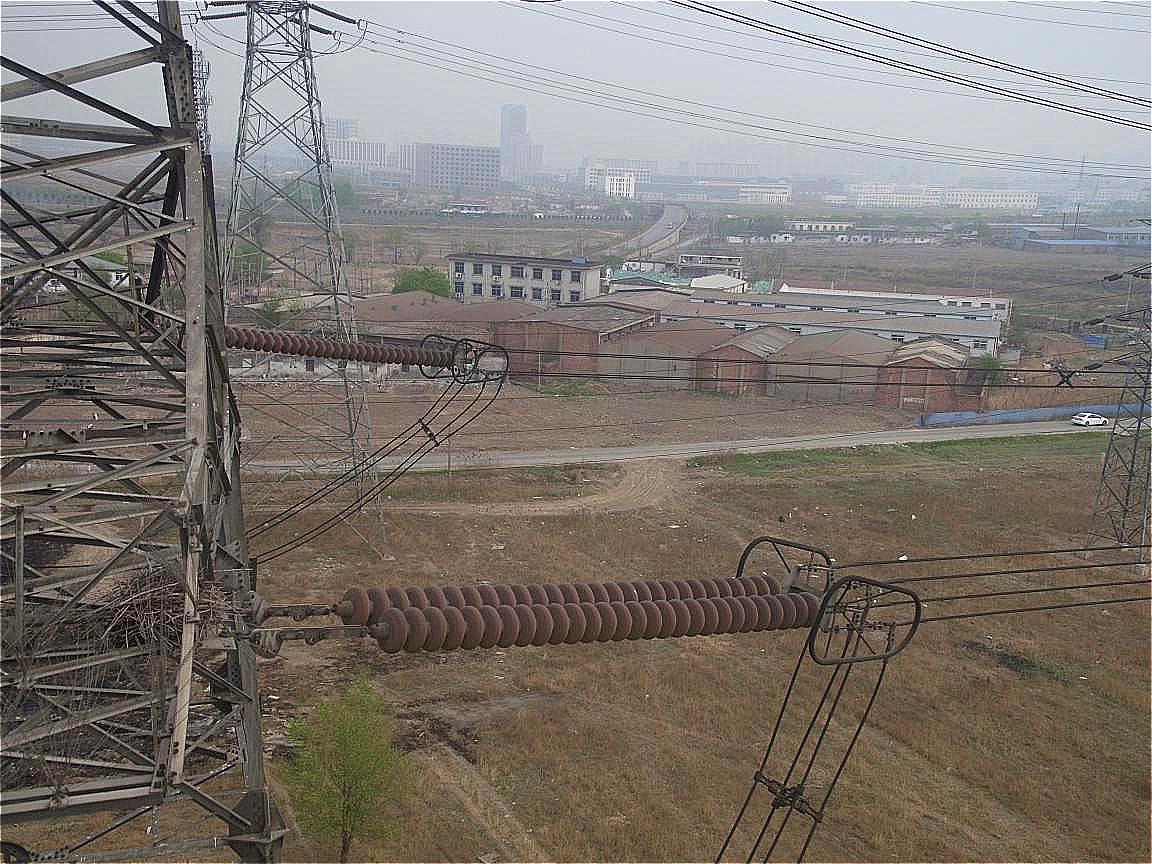insultor1: (342, 575, 822, 654), (226, 326, 457, 368)
